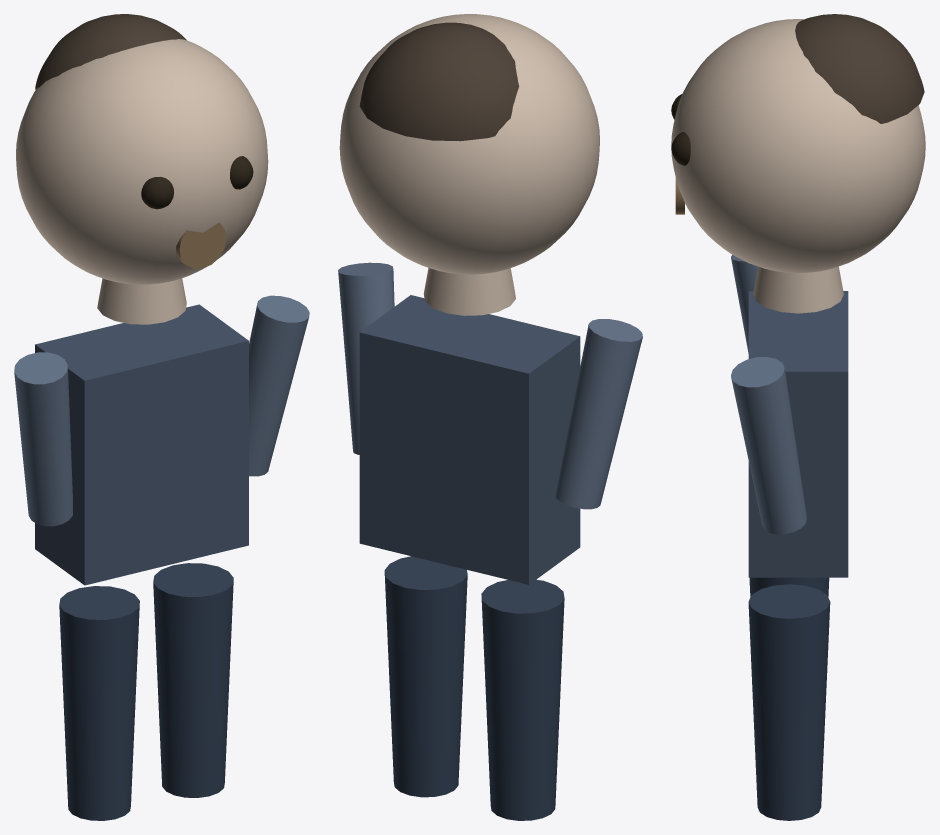
The model's file is avatar.glb.
3 renders of one model, left to right at view 1: azimuth 30°, elevation 25°; view 2: azimuth 150°, elevation 25°; view 3: azimuth 270°, elevation 25°, orthographic. The views are drawn at different scales.
Size of the model in its own units: 0.7753 by 1.94 by 0.588.
